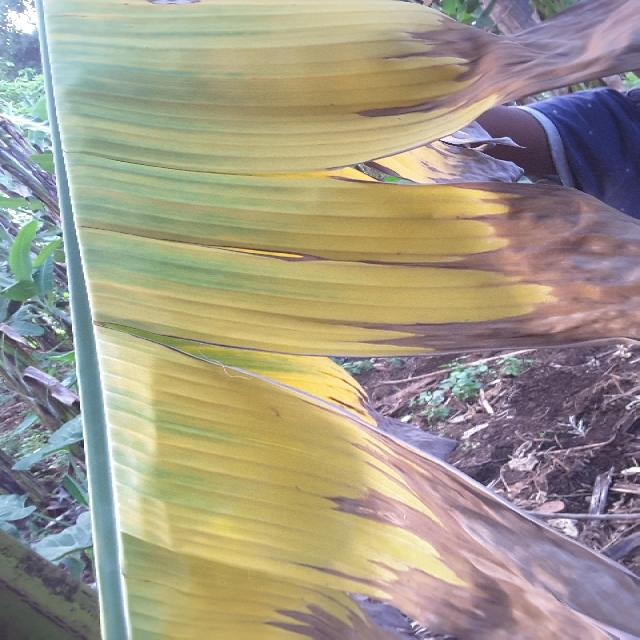Cordana: (57, 5, 587, 640)
